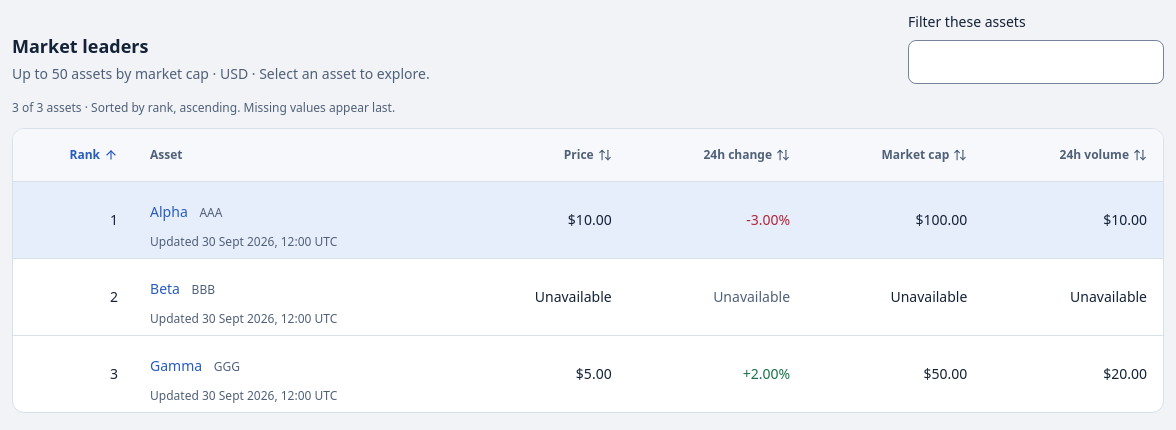
Crypto table sorting › combines sorting and filtering and restores the sorted list when cleared
Click the button with aria-label "Sort by 24h volume, ascending": (1103, 155) [1060,133,1147,177]
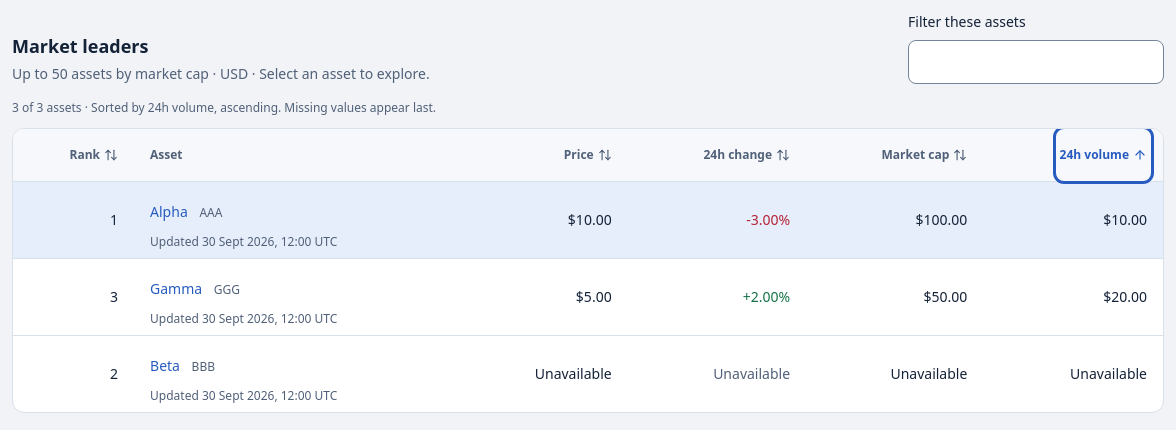
In the search field: (1036, 62) [908,40,1164,84], type "ggg"
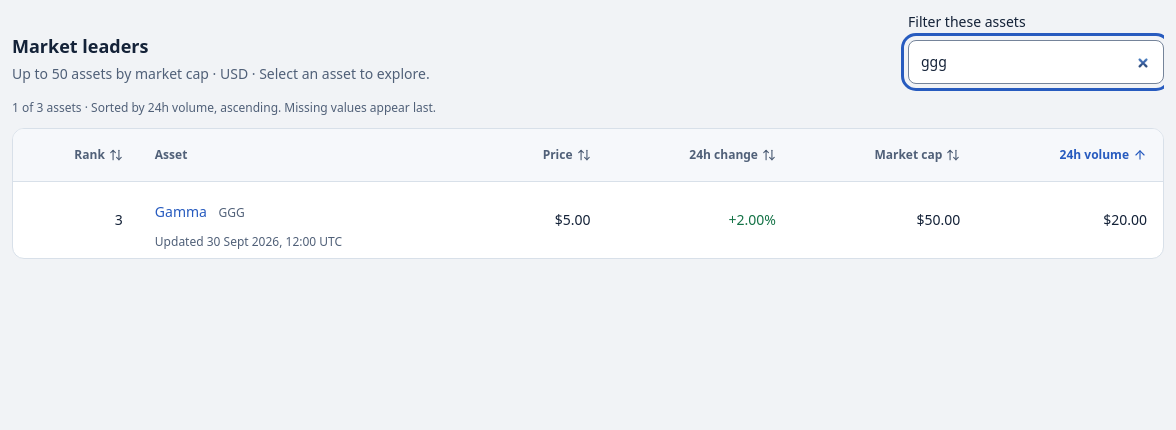
Expected: the message shows "1 of 3 assets", [12,99,436,116]
Clear the search field: (1036, 62) [908,40,1164,84]
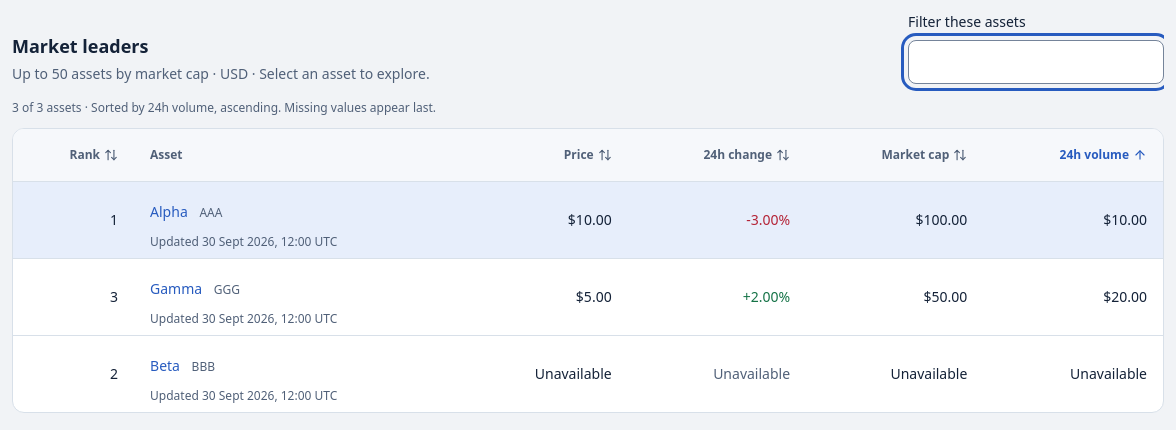
In the search field: (1036, 62) [908,40,1164,84], type "no-match"
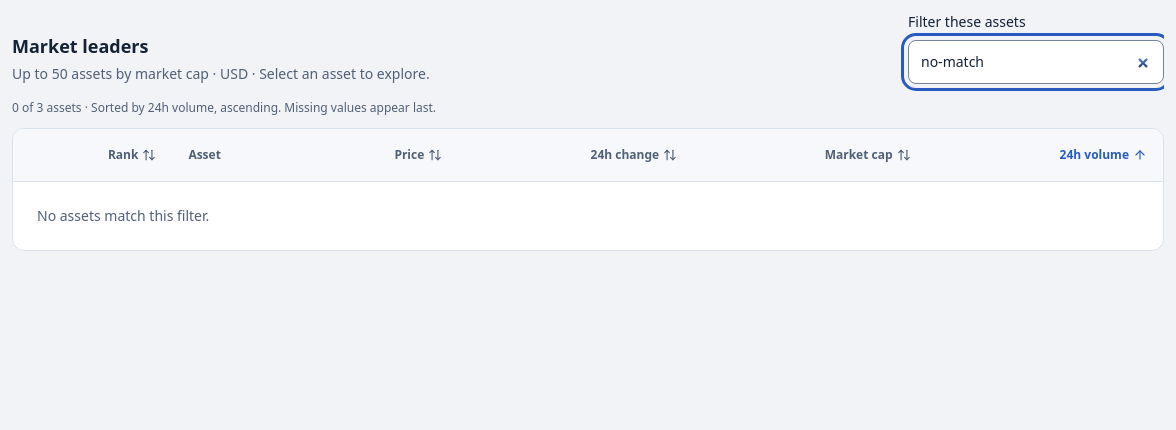
Expected: the text "No assets match this filter." is shown, [37,206,209,225]
